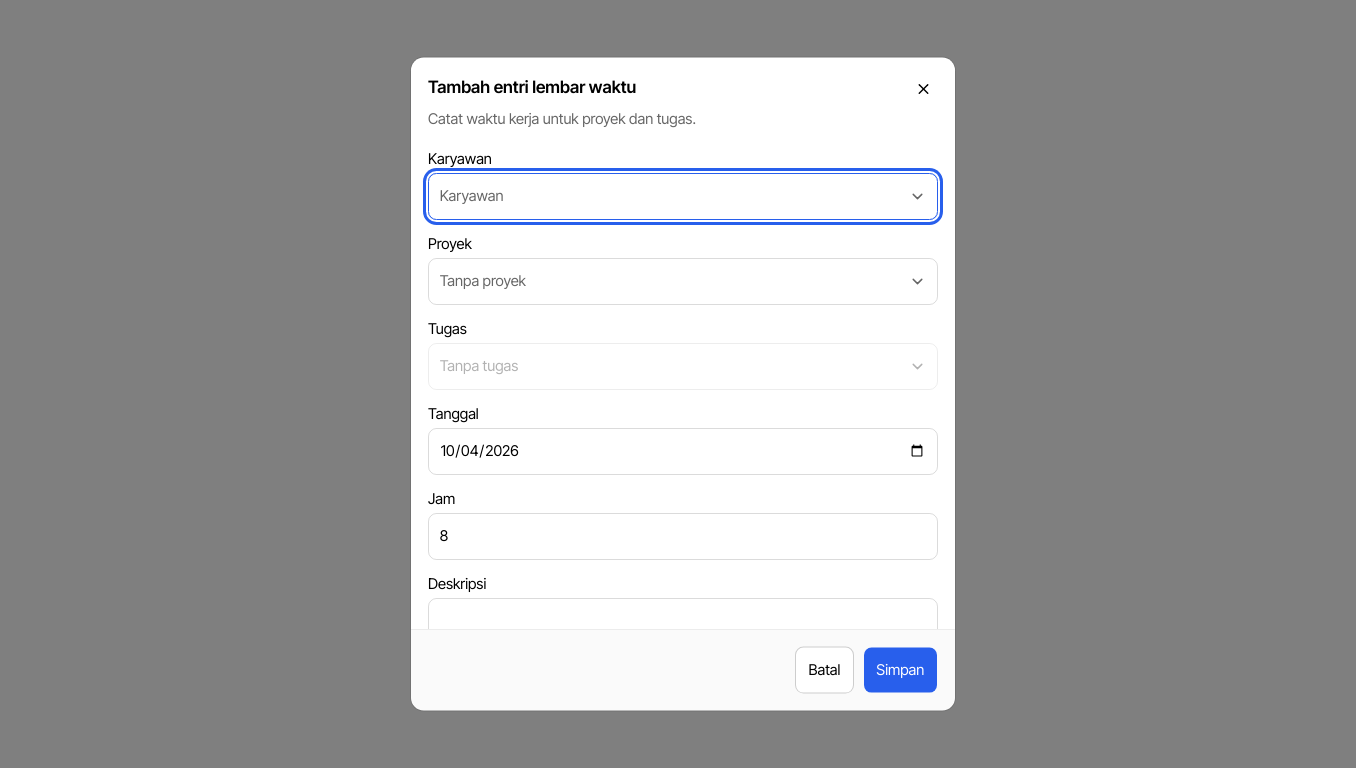
TimesheetFormDialog branches › blocks submit when no employee is selected
This screenshot has width=1366, height=768.
Check: the heading "Tambah entri lembar waktu" is shown, box 428,75 -> 636,100
Click the button "Simpan": [900, 670] box 863,647 -> 938,693
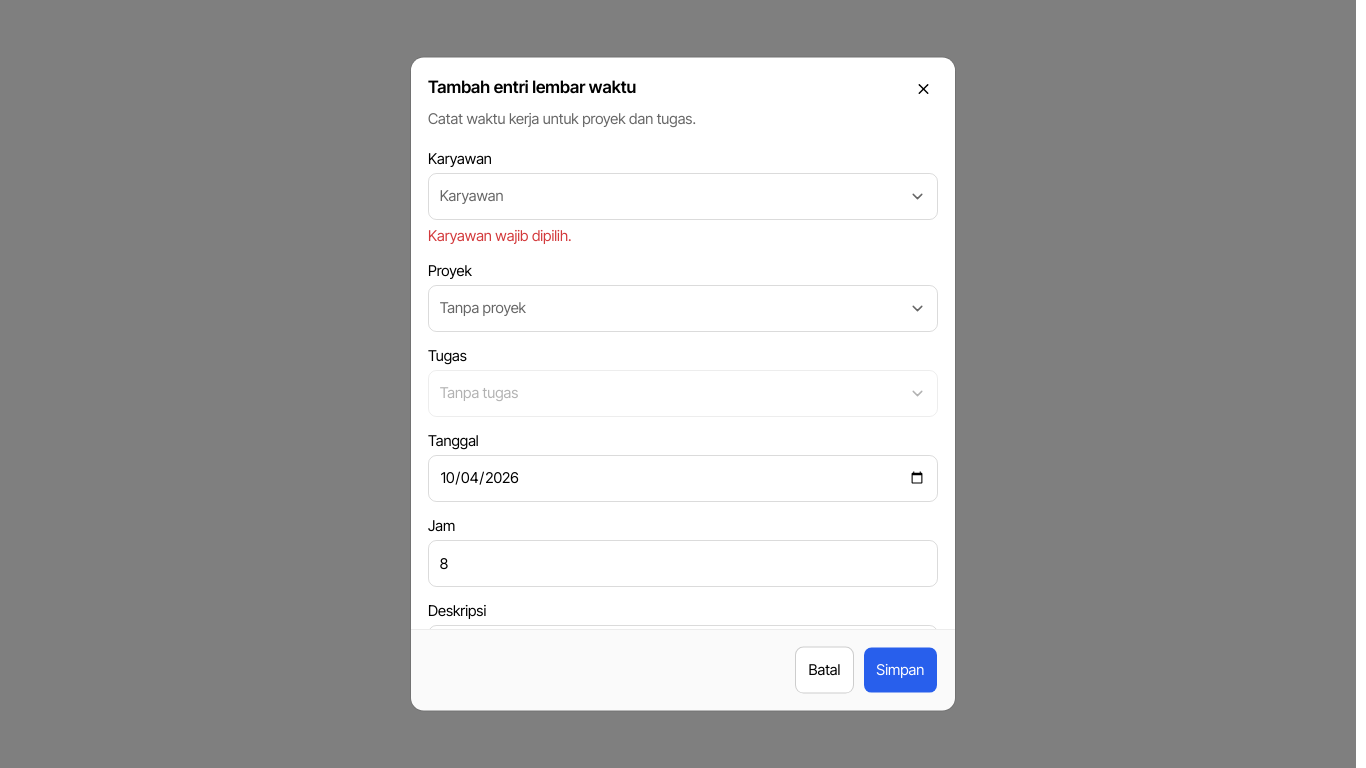
Check: the text "Karyawan wajib dipilih." is shown, box 428,226 -> 572,244
